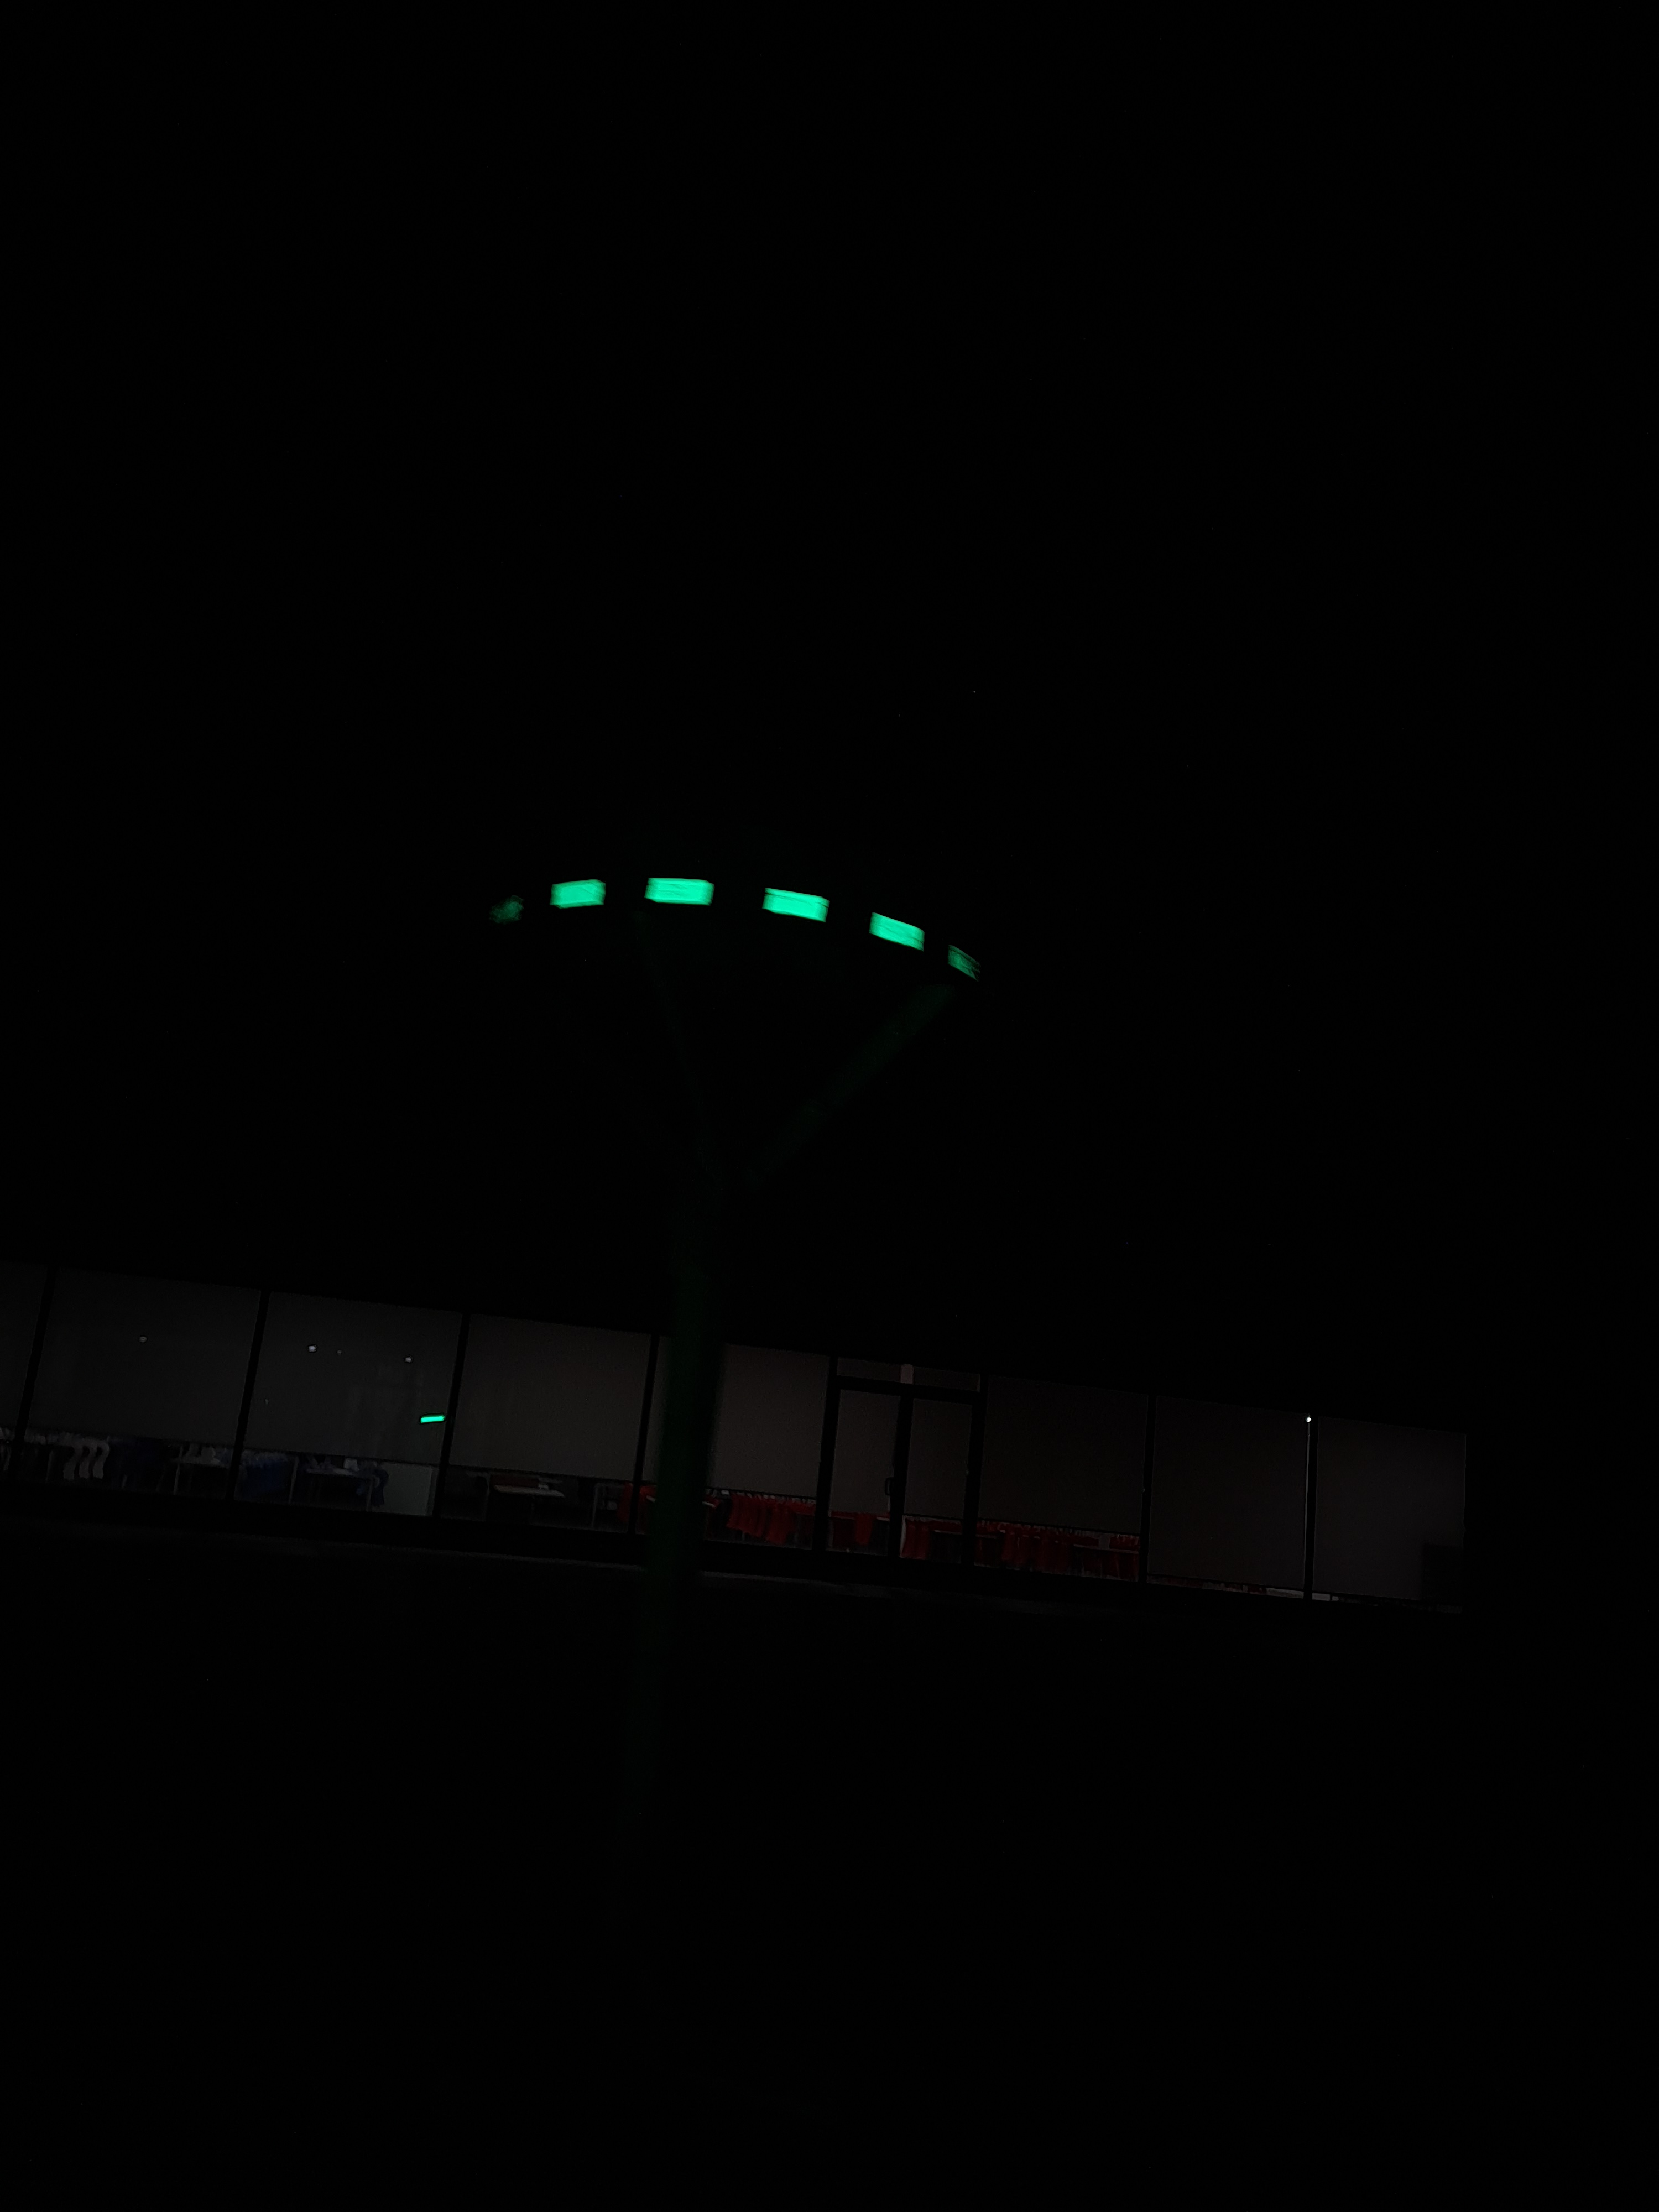hoop: (483, 864, 985, 984)
